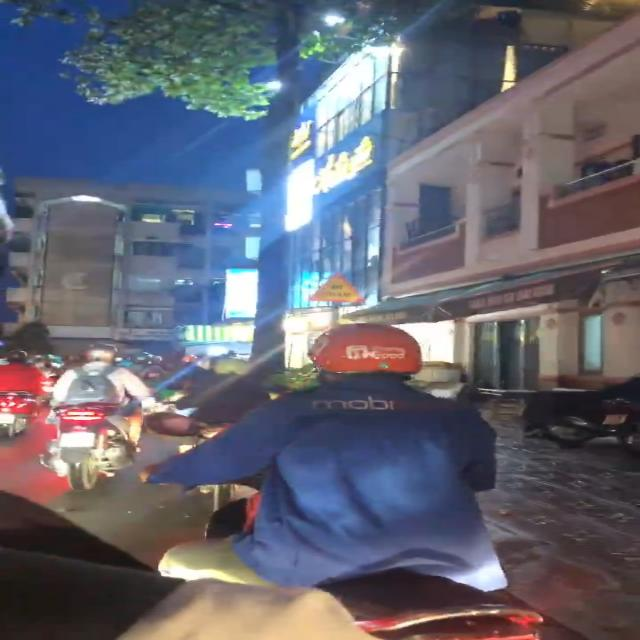Bien bao di cham: (302, 269, 362, 306)
